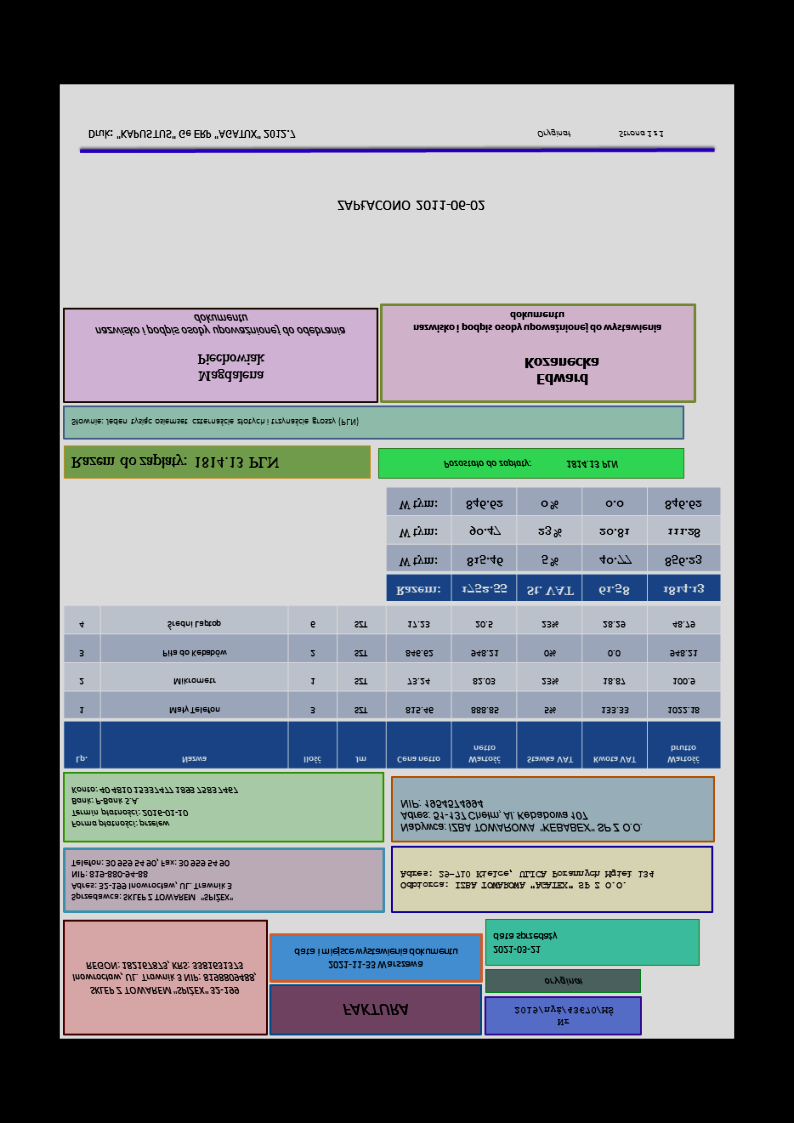Table: (60, 604, 723, 771), (384, 485, 723, 601)
TextBox: (395, 796, 648, 838), (68, 780, 241, 832), (68, 856, 235, 905), (410, 307, 666, 338), (68, 957, 260, 998), (397, 865, 658, 894), (91, 312, 349, 340), (66, 413, 363, 434), (291, 945, 461, 974), (66, 451, 279, 474), (82, 122, 298, 144), (333, 192, 491, 219), (440, 455, 623, 474), (522, 351, 602, 393), (512, 1001, 617, 1029), (194, 349, 267, 386), (489, 926, 559, 960), (533, 127, 666, 144), (339, 1000, 410, 1021), (542, 973, 586, 988)
